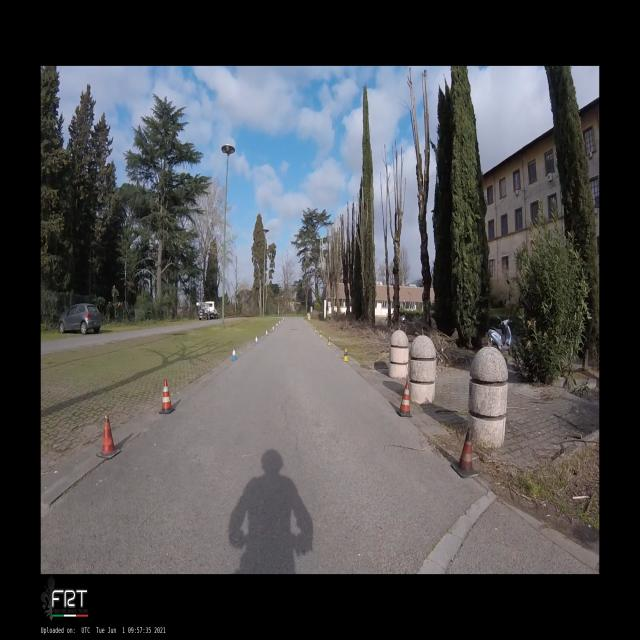blue_cone: (231, 347, 238, 360)
large_orange_cone: (396, 381, 412, 417), (159, 379, 175, 414)
unknown_cone: (452, 427, 478, 478), (96, 414, 122, 459)
yellow_cone: (342, 348, 348, 362), (327, 336, 331, 346)
